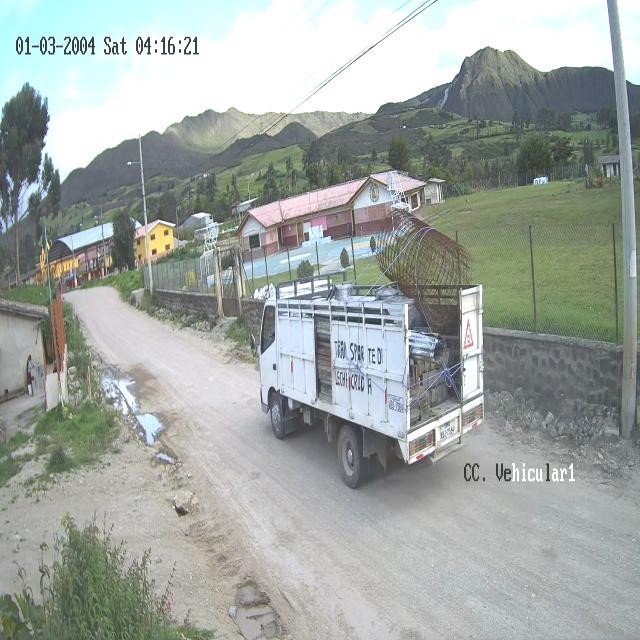TRUCK: (253, 275, 477, 481)
